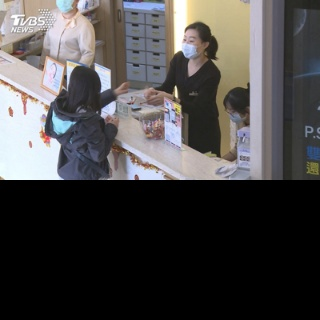with_mask: (181, 34, 201, 60), (224, 105, 246, 124)
